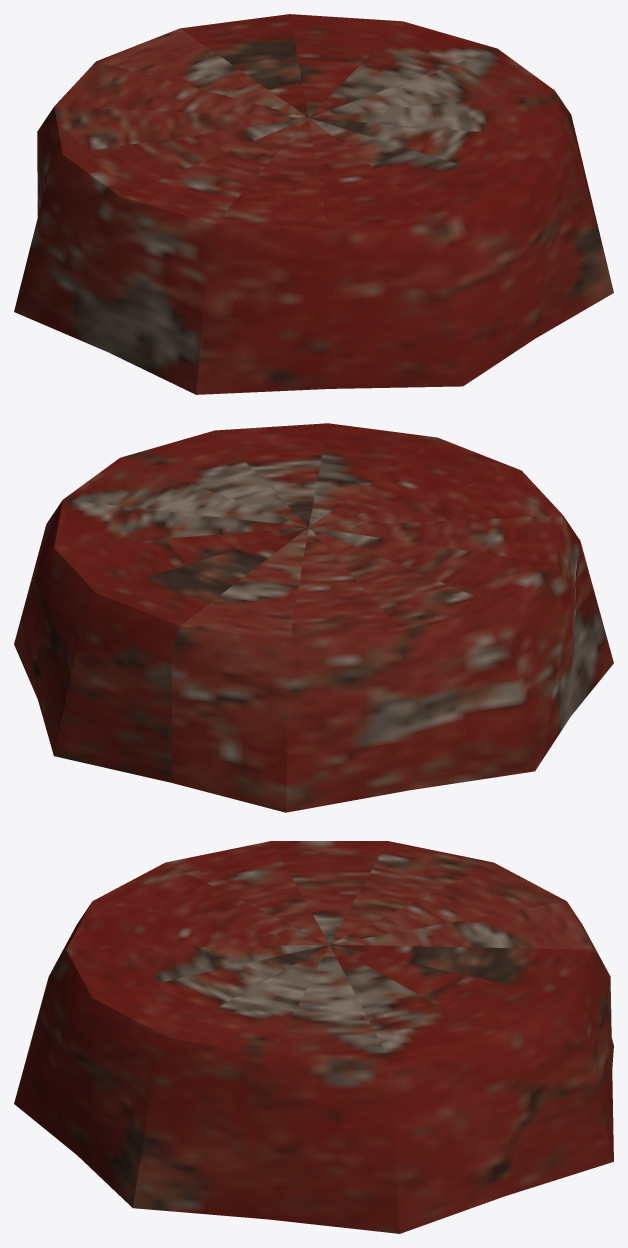
Rendered from HB_Cap_Crown26.fbx.
3 views of the same model, one above another, from view 1: azimuth 30°, elevation 25°; view 2: azimuth 150°, elevation 25°; view 3: azimuth 270°, elevation 25° (orthographic). The views are drawn at different scales.
Parts seen in each view (by area): view 1: HB_Cap_Crown26; view 2: HB_Cap_Crown26; view 3: HB_Cap_Crown26.
Part boxes in pixels (<box>): HB_Cap_Crown26: <box>14,14,613,394</box>; HB_Cap_Crown26: <box>14,423,613,812</box>; HB_Cap_Crown26: <box>14,841,613,1233</box>.
Bounding box in the file's own units: 0.0351 × 0.01 × 0.0342.
Materials: 1 (1 with a texture image).
